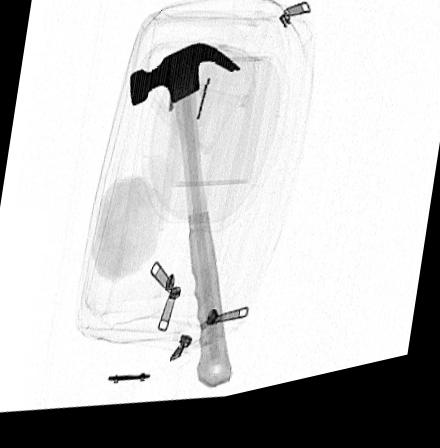Hammer: (128, 52, 241, 398)
